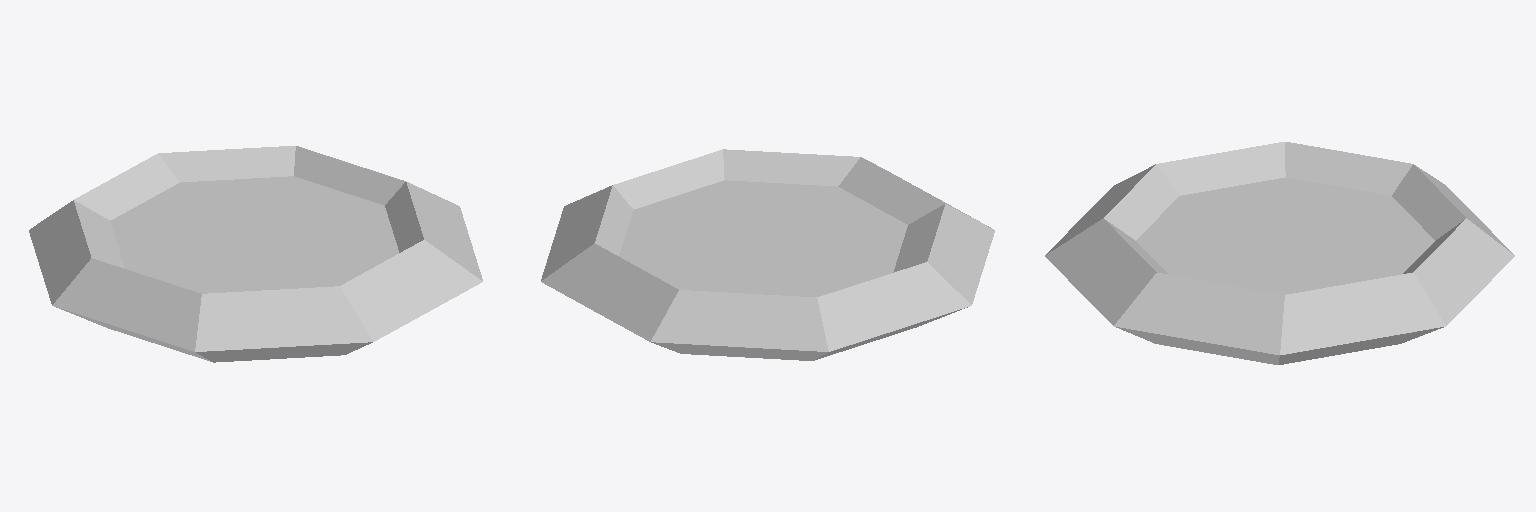
The model's file is Coin.obj.
3 renders of one model, left to right at view 1: azimuth 30°, elevation 25°; view 2: azimuth 150°, elevation 25°; view 3: azimuth 270°, elevation 25°, orthographic.
Visible parts, largest first — view 1: Coin; view 2: Coin; view 3: Coin.
Boxes of the visible parts, box(x1,y1,x2,y2) form: Coin: box(29, 146, 482, 362); Coin: box(541, 149, 994, 360); Coin: box(1045, 142, 1514, 364).
Size of the model in its own units: 6 by 1 by 6.